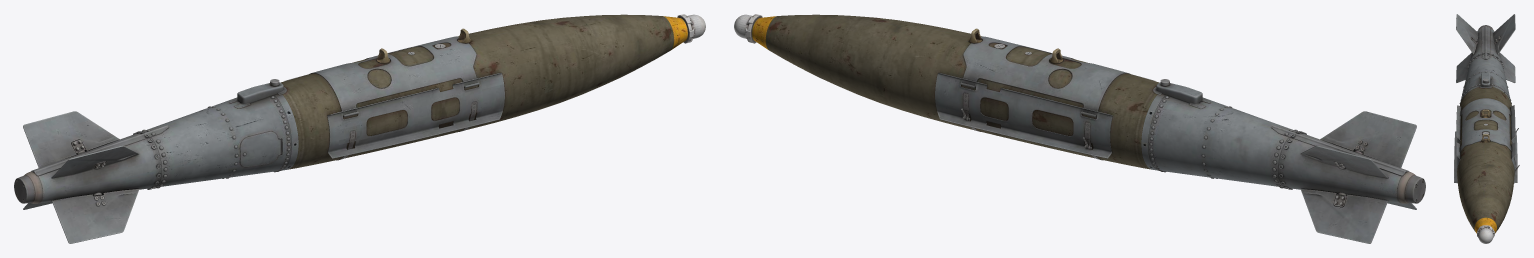
File: F22-ATG.glb
3 views of the same model, side by side, from view 1: azimuth 30°, elevation 25°; view 2: azimuth 150°, elevation 25°; view 3: azimuth 270°, elevation 25° (orthographic). The views are drawn at different scales.
Parts seen in each view (by area): view 1: Object_2, Object_3; view 2: Object_2, Object_3; view 3: Object_2, Object_3.
Boxes of the visible parts, box(x1,y1,x2,y2) form: Object_2: box(14, 14, 705, 243); Object_3: box(16, 40, 503, 201); Object_2: box(734, 14, 1425, 243); Object_3: box(961, 39, 1423, 201); Object_2: box(1454, 14, 1517, 243); Object_3: box(1454, 105, 1519, 183).
Bounding box in the file's own units: 3 × 0.4025 × 0.403.
Materials: 1 (1 with a texture image).
